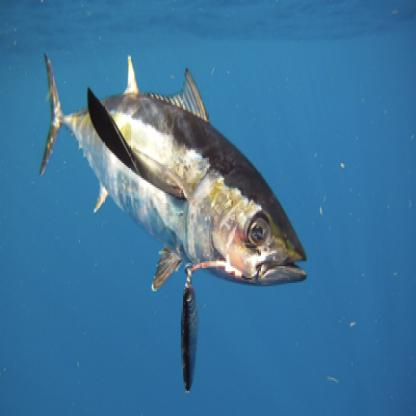tuna: (37, 47, 313, 299)
